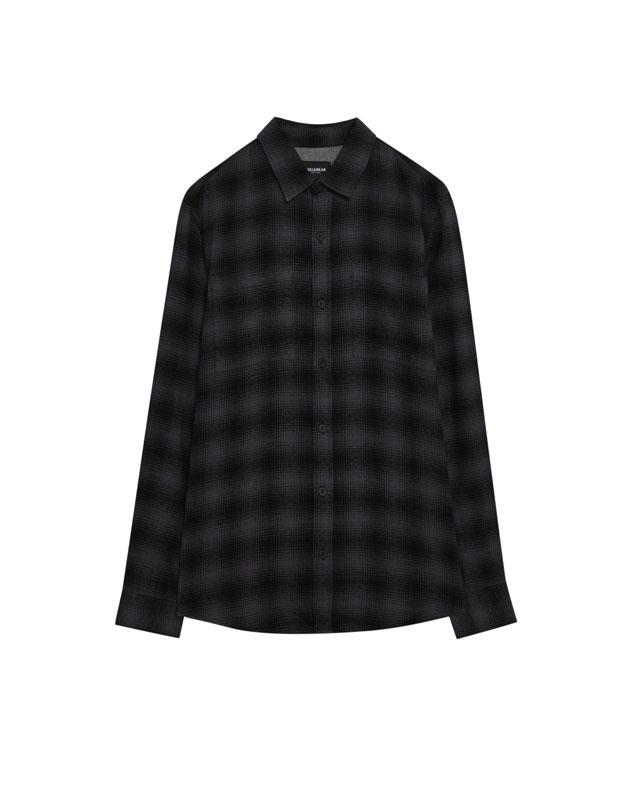teeshirt: (109, 111, 533, 659)
